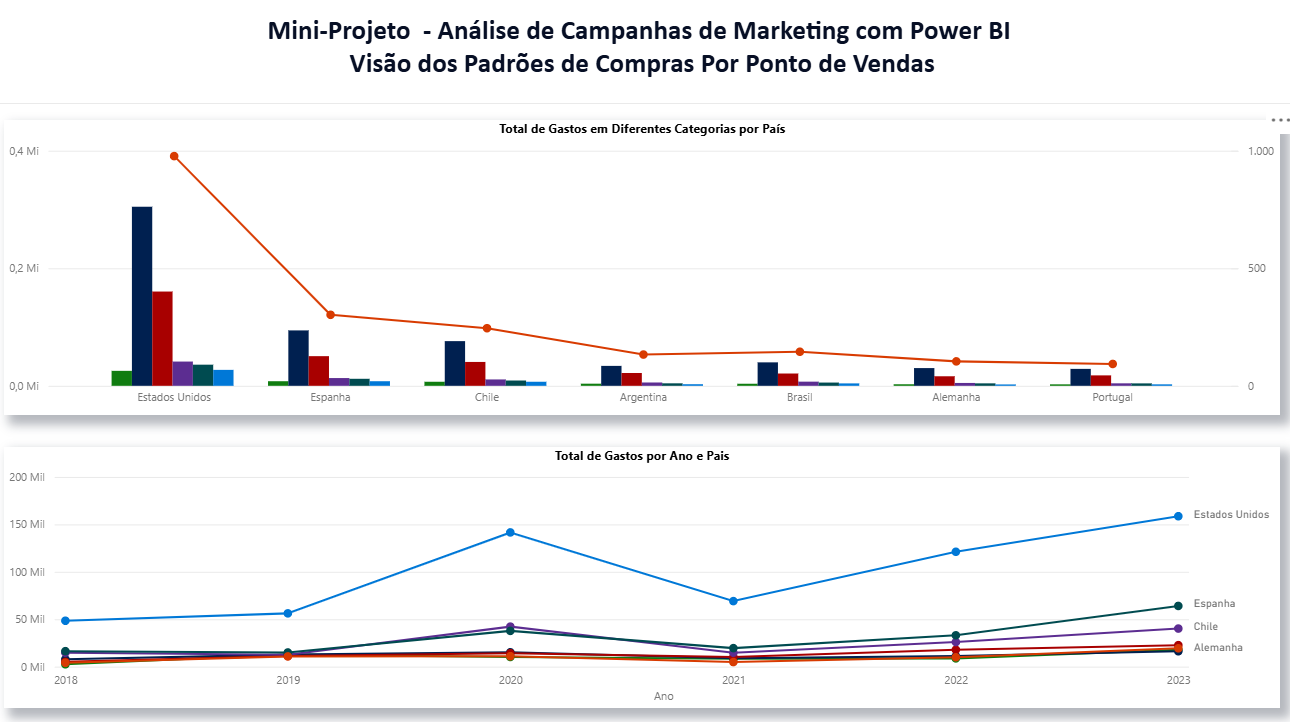

What the dashboard file says about the page in this screenshot:
{"tool":"powerbi","page":{"name":"Visão Pontos de Vendas","canvas":[1280,720],"ordinal":3},"visuals":[{"type":"lineClusteredColumnComboChart","title":"Total de Gastos em Diferentes Categorias por País","fields":{"Category":["DadosMarketing.Pais"],"Y":["Sum(DadosMarketing.Gasto com Brinquedos)","Sum(DadosMarketing.Gasto com Eletronicos)","Sum(DadosMarketing.Gasto com Moveis)","Sum(DadosMarketing.Gasto com Vestuario)","Sum(DadosMarketing.Gasto com Utilidades)","Sum(DadosMarketing.Gasto com Alimentos)"],"Y2":["CountNonNull(DadosMarketing.ID)"]},"box":[16,128,1248,288],"z":0},{"type":"textbox","box":[0,0,1280,112],"z":1000},{"type":"lineChart","title":"Total de Gastos por Ano e Pais","fields":{"Y":["DadosMarketing.TotalGasto"],"Series":["DadosMarketing.Pais"],"Category":["DadosMarketing.Data Cadastro.Variation.Hierarquia de datas.Ano"]},"box":[16,448,1248,256],"z":2000}]}

Visuals, with their boxes in screenshot pixels (x1, y1, x2, y2), scaled from the page's 1280x720 canvas onto the 1290x722 screenshot:
"Total de Gastos em Diferentes Categorias por País" lineClusteredColumnComboChart: pyautogui.locateOnScreen(16, 128, 1274, 417)
textbox: pyautogui.locateOnScreen(0, 0, 1289, 112)
"Total de Gastos por Ano e Pais" lineChart: pyautogui.locateOnScreen(16, 449, 1274, 706)
